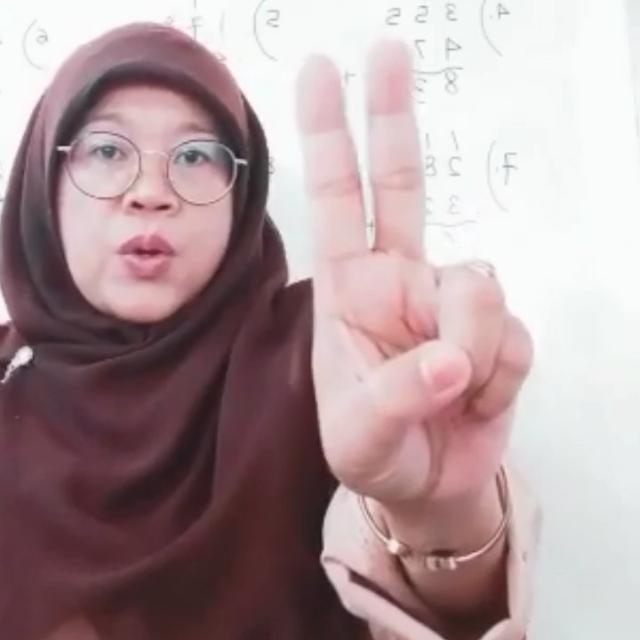U: (293, 29, 549, 508)
